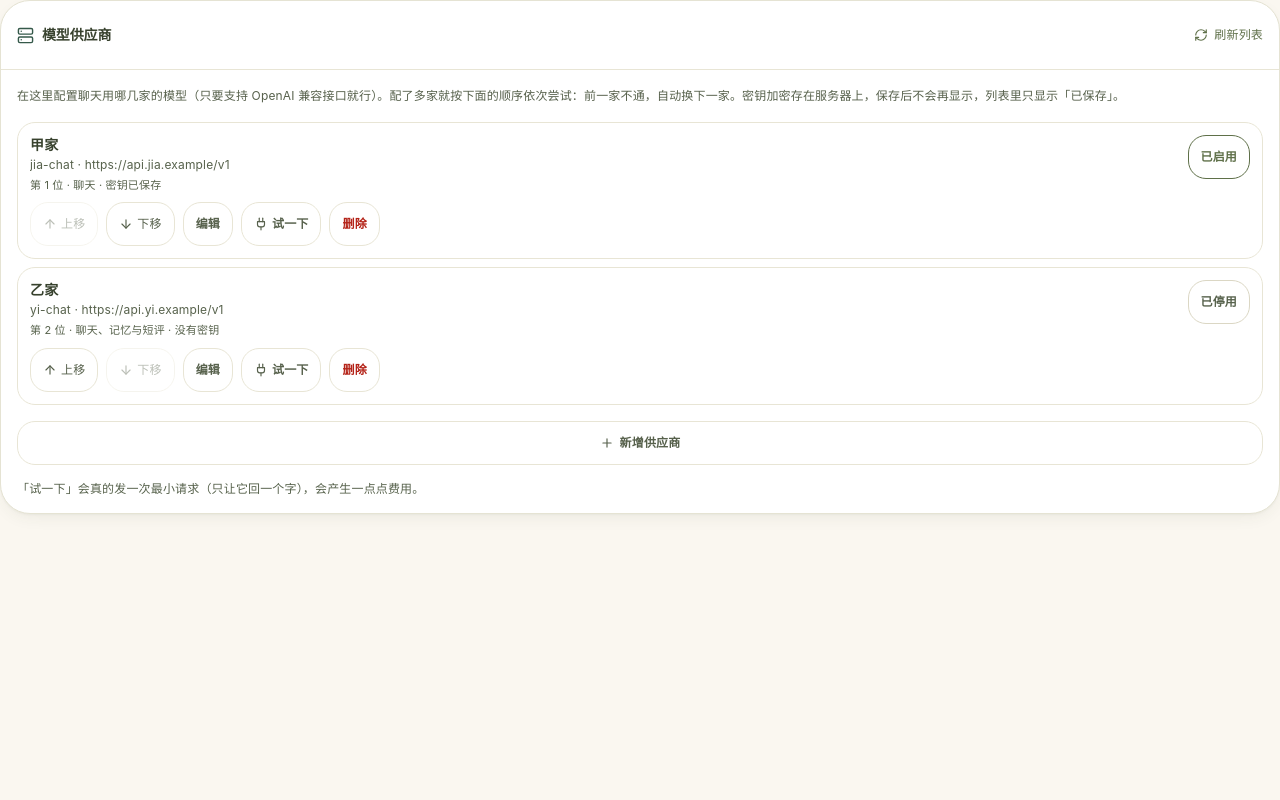
Test: ModelProviderSettings › 写成功但网关没能重装时，把服务端那句 warning 摆出来，而不是只报一句成功
Expected: the text "甲家" is shown, [30,136,58,152]
Click the switch named "启用：甲家".
click(1219, 156)  # box [1188,134,1250,178]
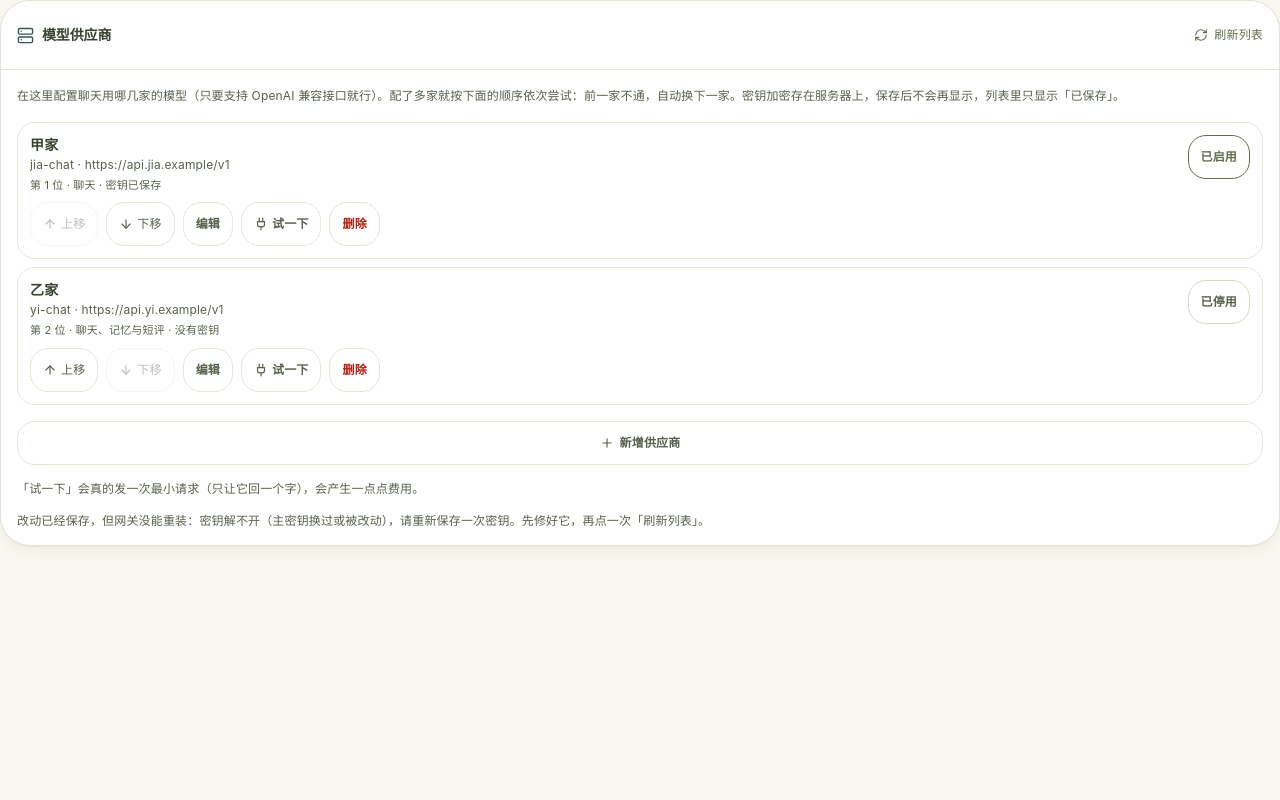
Expected: the message does not show "已经停用", [17,513,710,528]
Now the message shows "网关没能重装", box [17,513,710,528]
